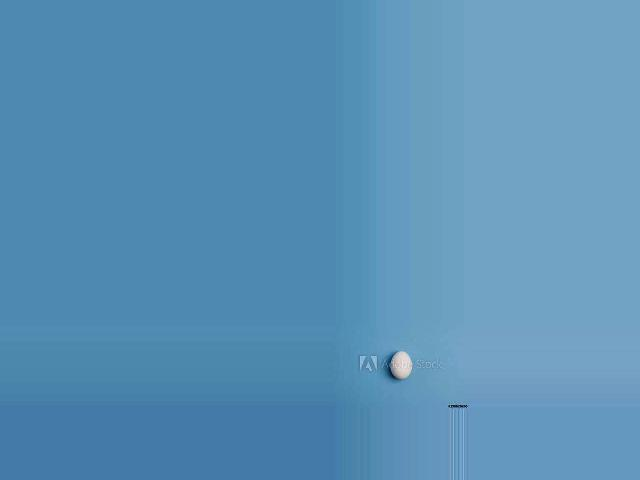egg: (390, 352, 412, 379)
